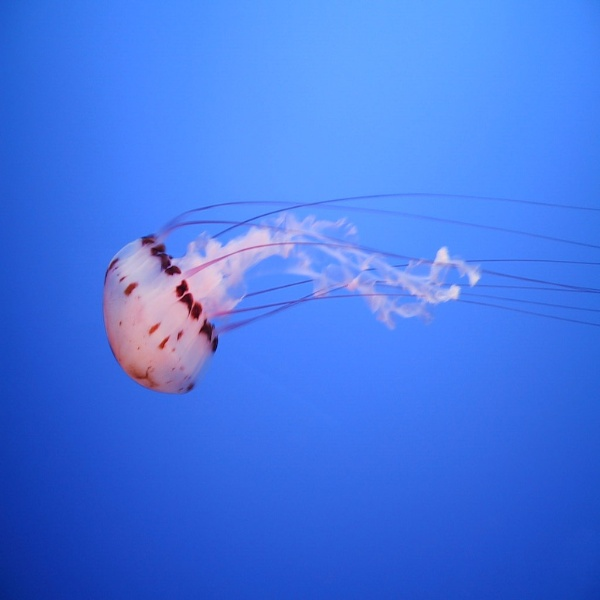Jellyfish: (81, 175, 548, 391)
